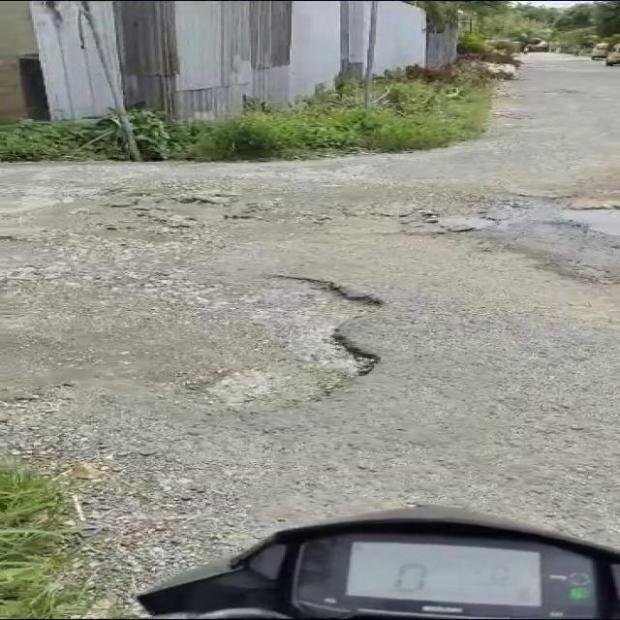lubang: (162, 276, 378, 410), (350, 197, 619, 283), (28, 163, 288, 239)
